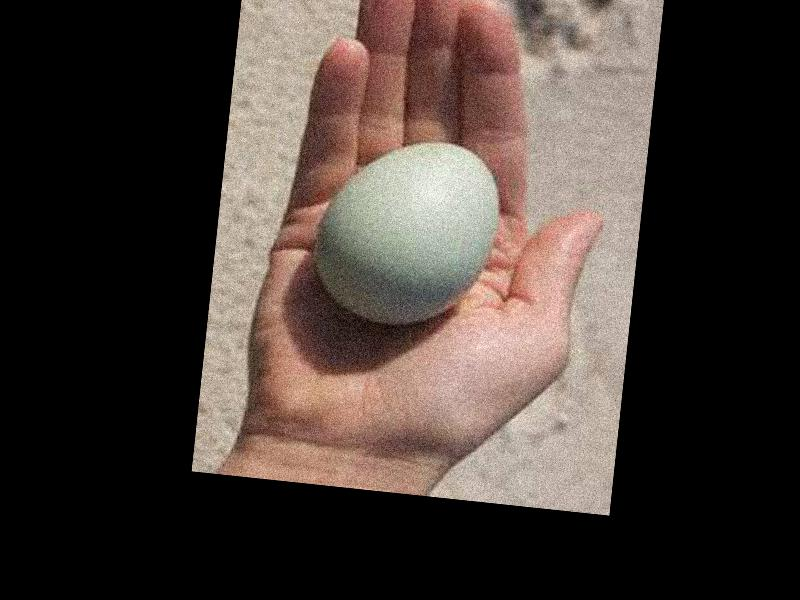Eggs: (307, 134, 501, 330)
